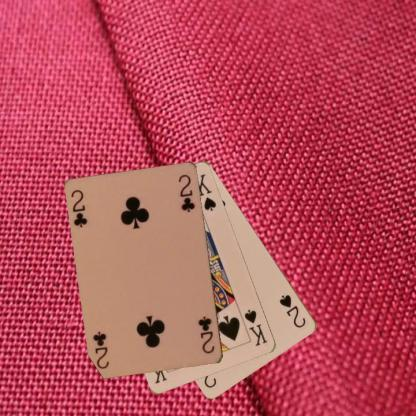2c: (195, 314, 216, 356), (69, 187, 89, 229)
2s: (276, 292, 308, 329)
Ks: (242, 307, 270, 348)
